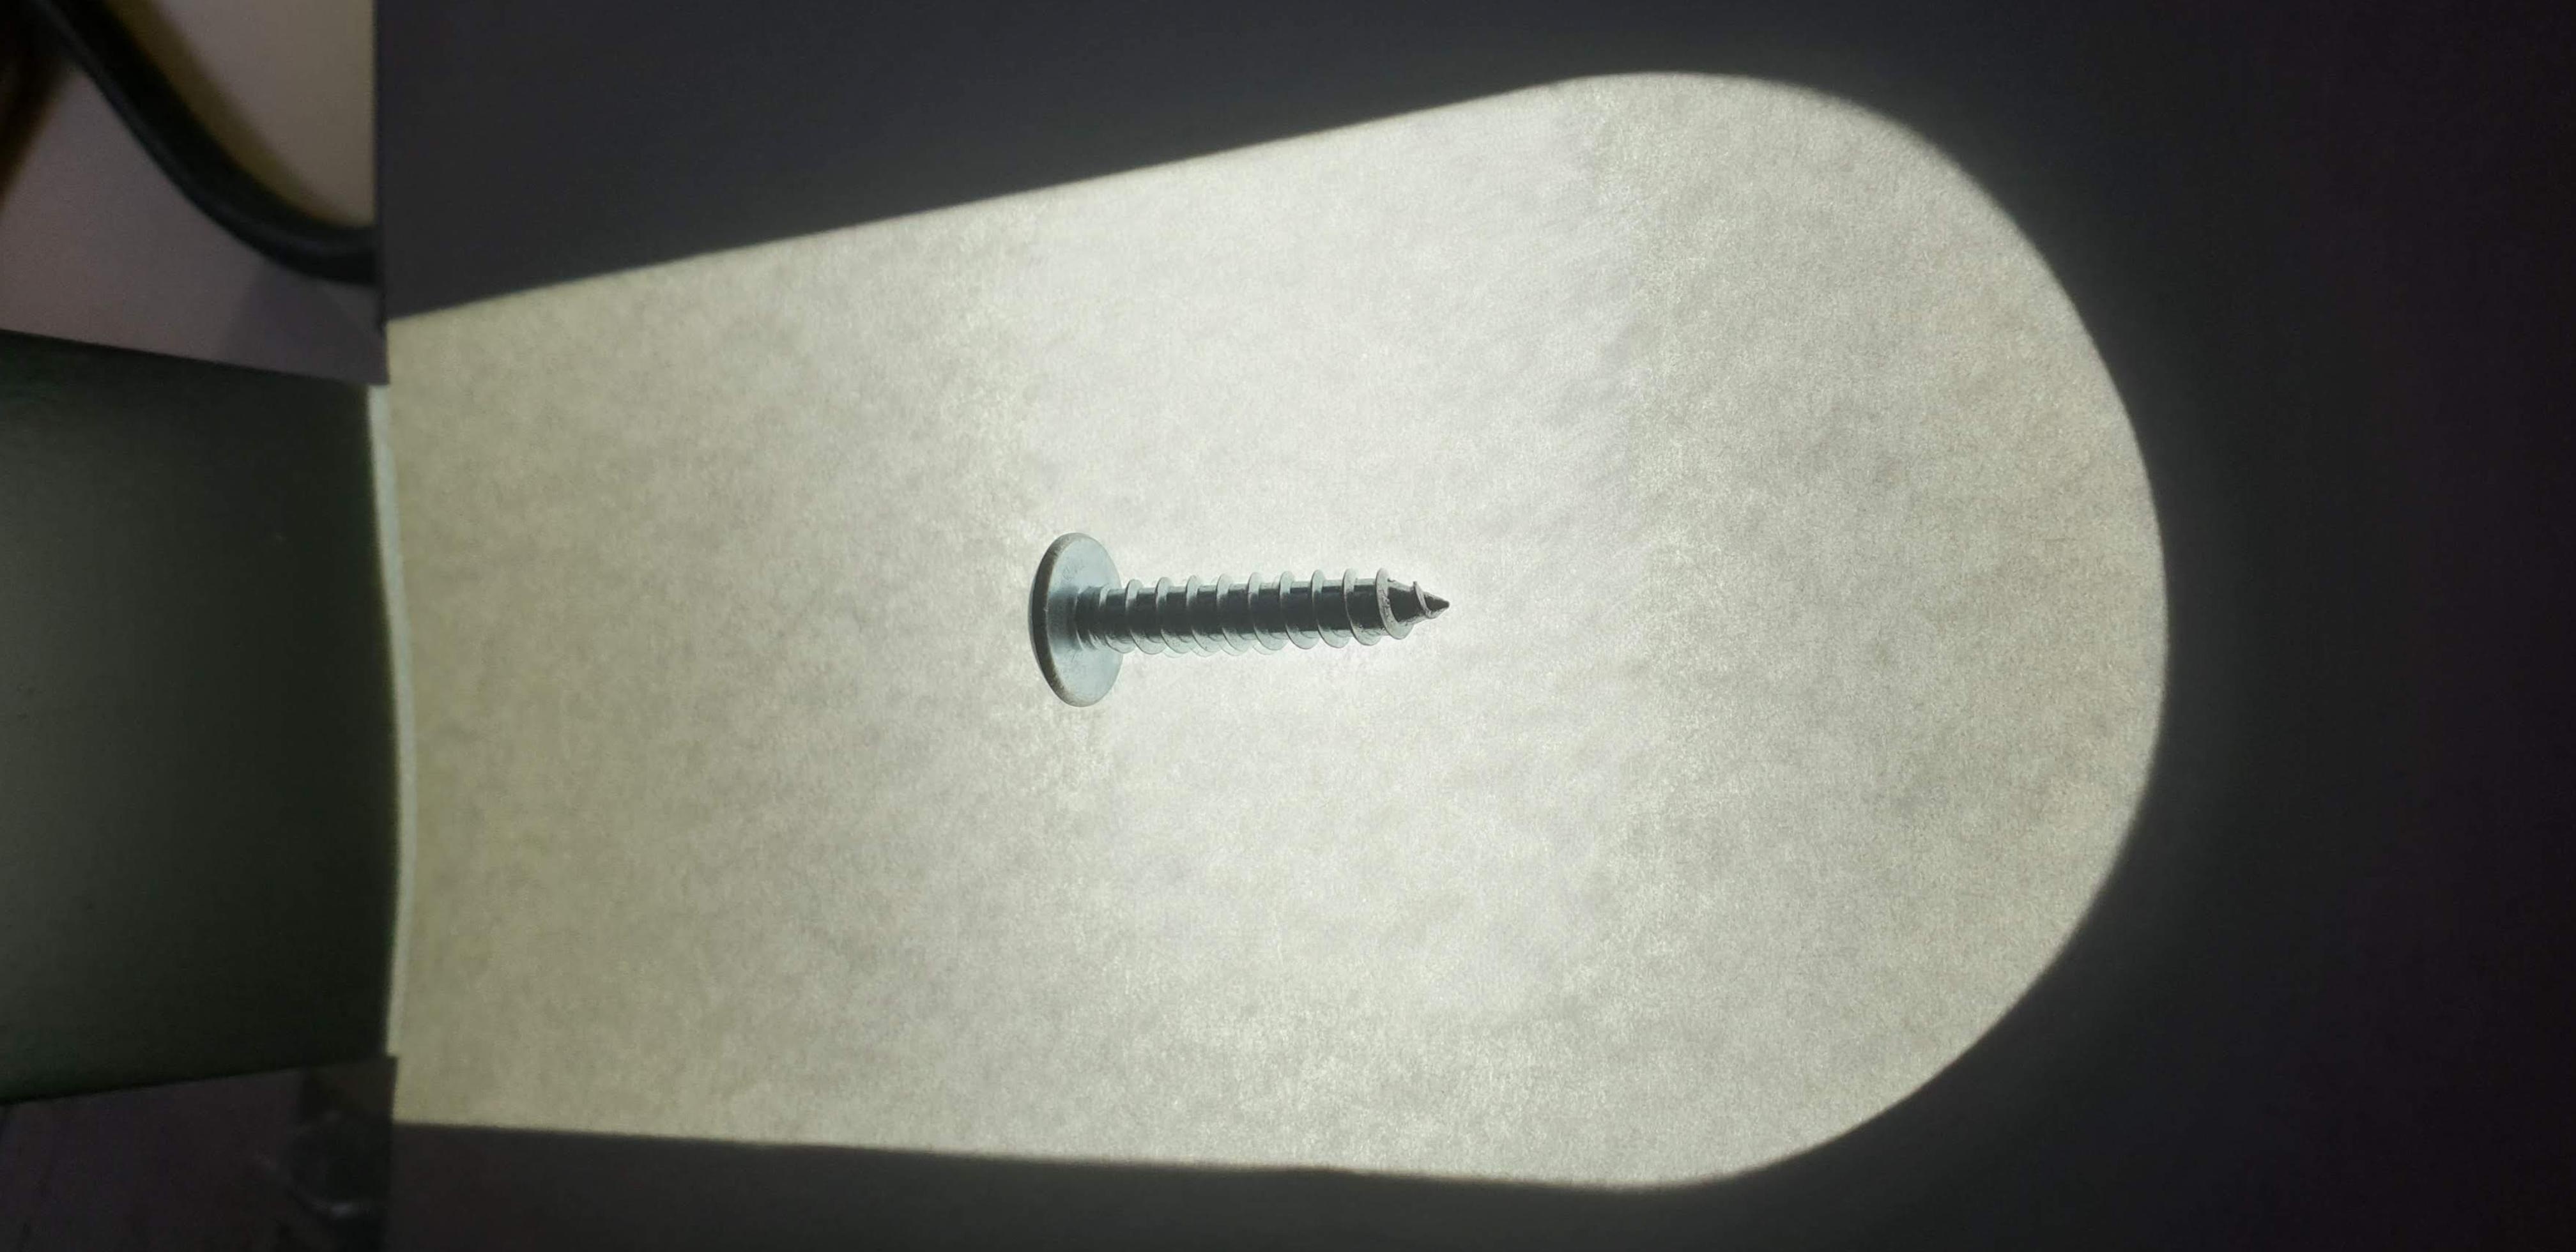S002: (984, 498, 1495, 738)
